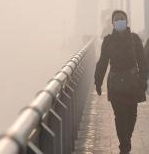person: (94, 9, 148, 154)
